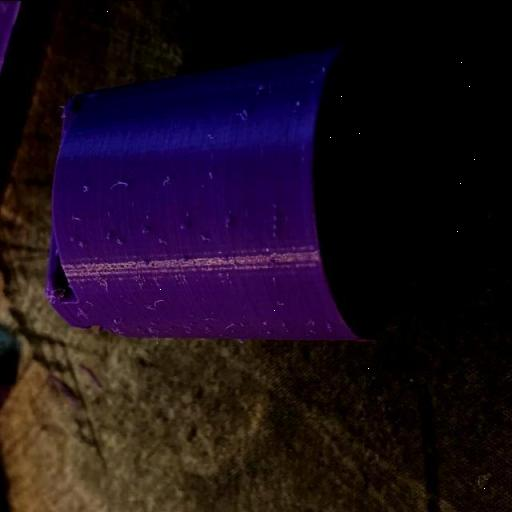blobs: (255, 77, 269, 96), (225, 215, 236, 226), (102, 232, 114, 242), (78, 238, 88, 250), (206, 168, 216, 180), (268, 200, 279, 210), (66, 232, 77, 242), (269, 228, 278, 240), (270, 212, 280, 222), (180, 220, 190, 230), (140, 226, 150, 236), (110, 316, 120, 326), (278, 320, 288, 330), (142, 256, 150, 266), (117, 236, 125, 246), (296, 98, 302, 110), (135, 324, 143, 332), (272, 222, 278, 232)
